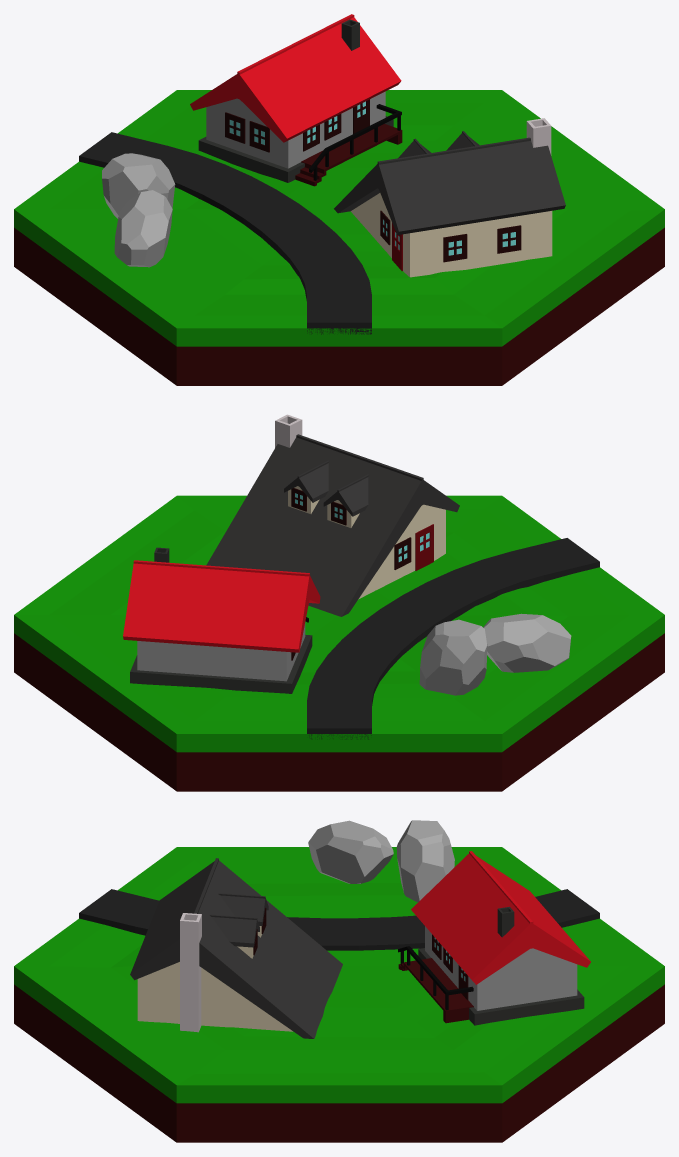
The model's file is Hex+kamene.fbx.
The picture shows the model from 3 angles, top to bottom: view 1: azimuth 30°, elevation 25°; view 2: azimuth 150°, elevation 25°; view 3: azimuth 270°, elevation 25°; orthographic projection.
Parts seen in each view (by area): view 1: Cylinder.001, Cylinder, Cube, Cube.004, Cube.003, Sphere.001, Sphere; view 2: Cylinder.001, Cube, Cylinder, Cube.004, Cube.003, Sphere, Sphere.001; view 3: Cylinder.001, Cylinder, Cube, Cube.004, Cube.003, Sphere.001, Sphere.
Part boxes in pixels (left/top/right/bottom): Cylinder.001: left=14, top=90, right=664, bottom=346; Cylinder: left=14, top=227, right=664, bottom=385; Cube: left=334, top=118, right=565, bottom=277; Cube.004: left=190, top=14, right=402, bottom=186; Cube.003: left=79, top=132, right=371, bottom=334; Sphere.001: left=114, top=190, right=172, bottom=267; Sphere: left=102, top=153, right=175, bottom=218; Cylinder.001: left=14, top=495, right=664, bottom=752; Cube: left=206, top=414, right=459, bottom=616; Cylinder: left=14, top=633, right=664, bottom=791; Cube.004: left=123, top=547, right=320, bottom=693; Cube.003: left=307, top=538, right=599, bottom=739; Sphere: left=419, top=619, right=487, bottom=695; Sphere.001: left=483, top=613, right=571, bottom=672; Cylinder.001: left=14, top=847, right=664, bottom=1103; Cylinder: left=14, top=984, right=664, bottom=1142; Cube: left=130, top=858, right=342, bottom=1038; Cube.004: left=398, top=851, right=590, bottom=1025; Cube.003: left=79, top=889, right=599, bottom=950; Sphere.001: left=308, top=820, right=393, bottom=883; Sphere: left=396, top=820, right=454, bottom=902.
Size of the model in its own units: 2598 by 850 by 3000.
